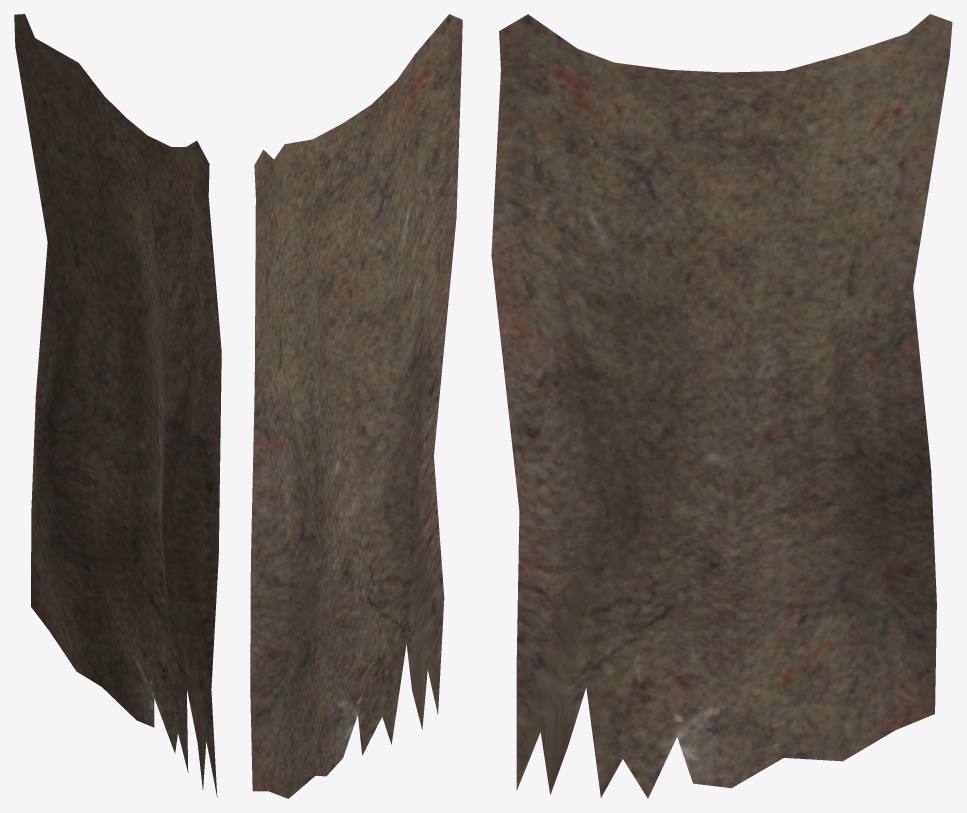
The model's file is TornCloth_T02.FBX.
The picture shows the model from 3 angles, left to right: view 1: azimuth 30°, elevation 25°; view 2: azimuth 150°, elevation 25°; view 3: azimuth 270°, elevation 25°; orthographic projection. The views are drawn at different scales.
Visible parts, largest first — view 1: TornCloth_T02; view 2: TornCloth_T02; view 3: TornCloth_T02.
Part boxes in pixels (<box>): TornCloth_T02: <box>14,14,221,797</box>; TornCloth_T02: <box>250,14,462,798</box>; TornCloth_T02: <box>491,14,952,798</box>.
Bounding box in the file's own units: 16.43 × 226 × 122.
